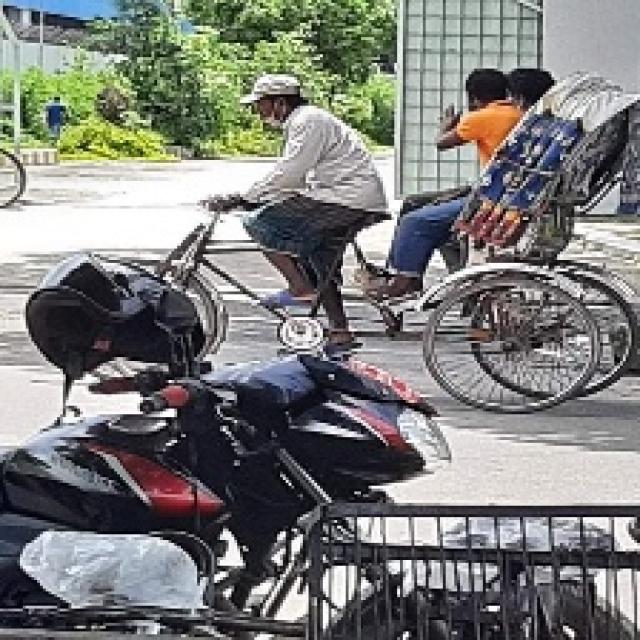bike: (8, 343, 440, 569)
rickshaw: (222, 52, 633, 376)
